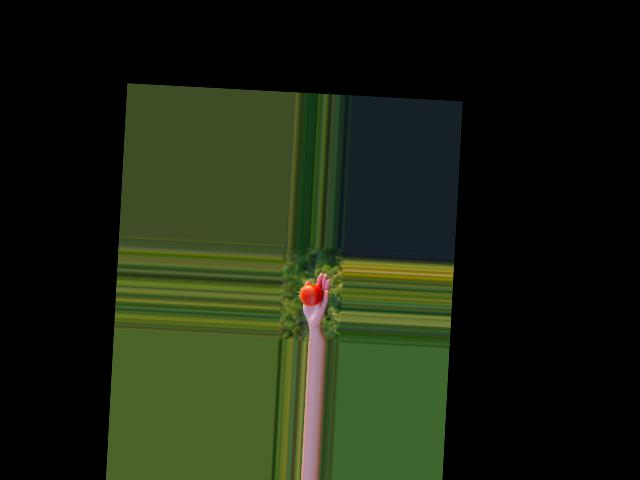tomato: (299, 283, 324, 306)
